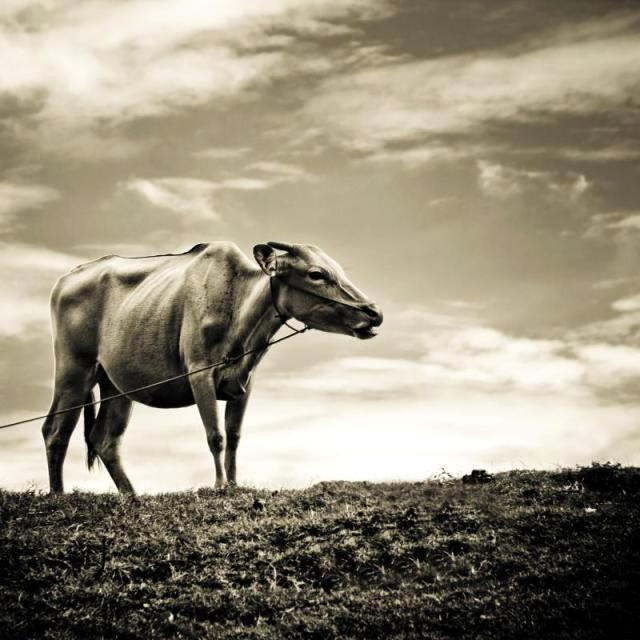COW: (42, 242, 382, 492)
